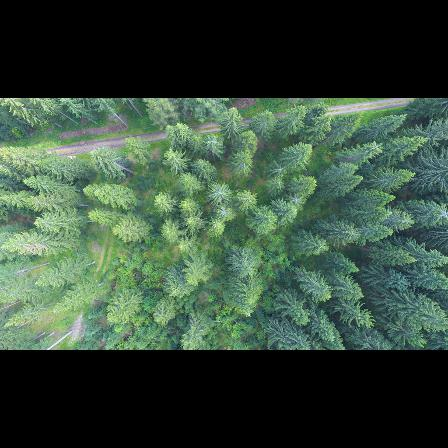Sick: (208, 186, 232, 200), (288, 193, 307, 207), (273, 162, 288, 176), (217, 206, 231, 220)
